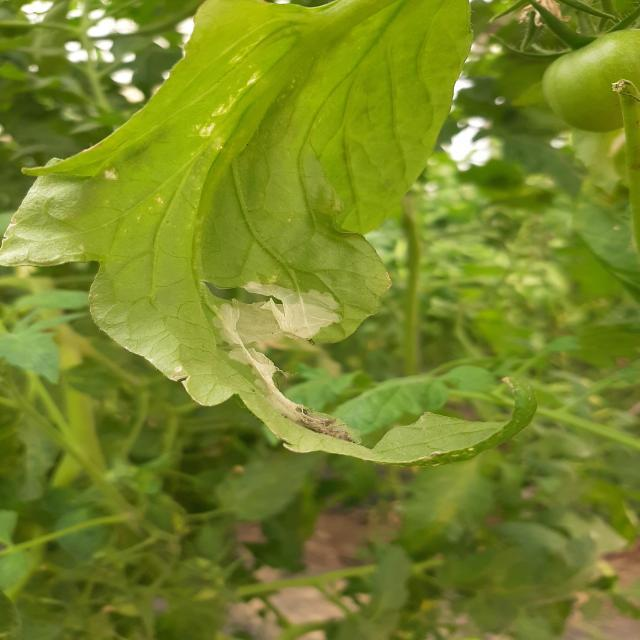Tuta absoluta: (210, 271, 354, 454)
